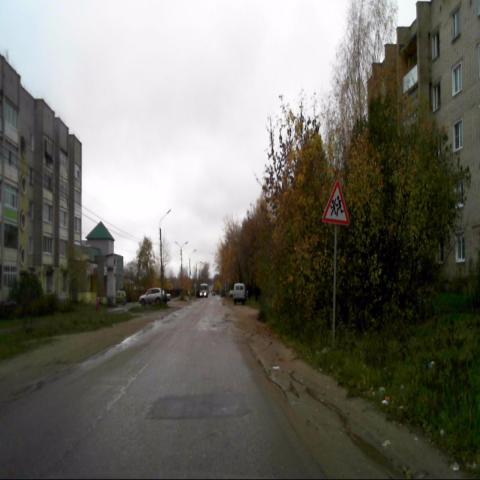1_23: (322, 178, 350, 224)
